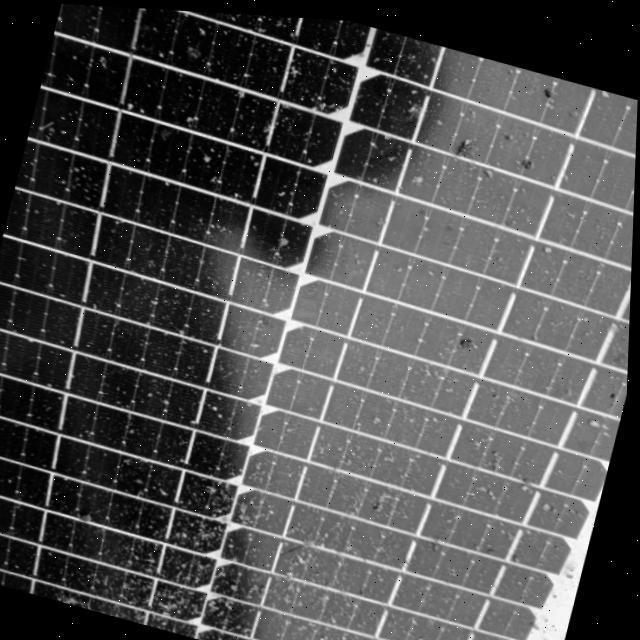Surface Contaminant: (0, 3, 533, 613)
